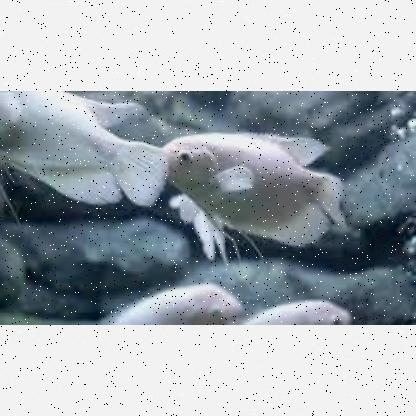gurame: (157, 131, 339, 245)
